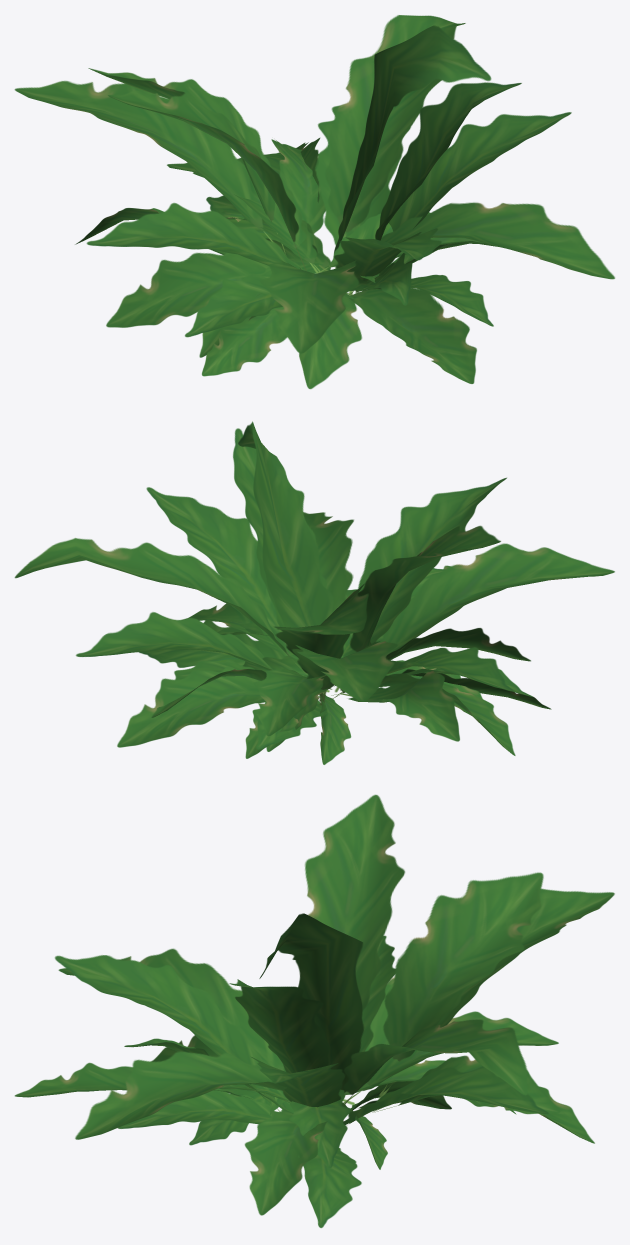
Rendered from fern_a.glb.
3 renders of one model, top to bottom at view 1: azimuth 30°, elevation 25°; view 2: azimuth 150°, elevation 25°; view 3: azimuth 270°, elevation 25°, orthographic. The views are drawn at different scales.
Visible parts, largest first — view 1: polySurface203_aiStandardSurface1_0; view 2: polySurface203_aiStandardSurface1_0; view 3: polySurface203_aiStandardSurface1_0.
Part boxes in pixels (<box>): polySurface203_aiStandardSurface1_0: <box>14,15,614,389</box>; polySurface203_aiStandardSurface1_0: <box>14,421,614,764</box>; polySurface203_aiStandardSurface1_0: <box>14,794,614,1227</box>.
Bounding box in the file's own units: 1.58 × 0.9 × 1.8.
1 material, 1 textured.
